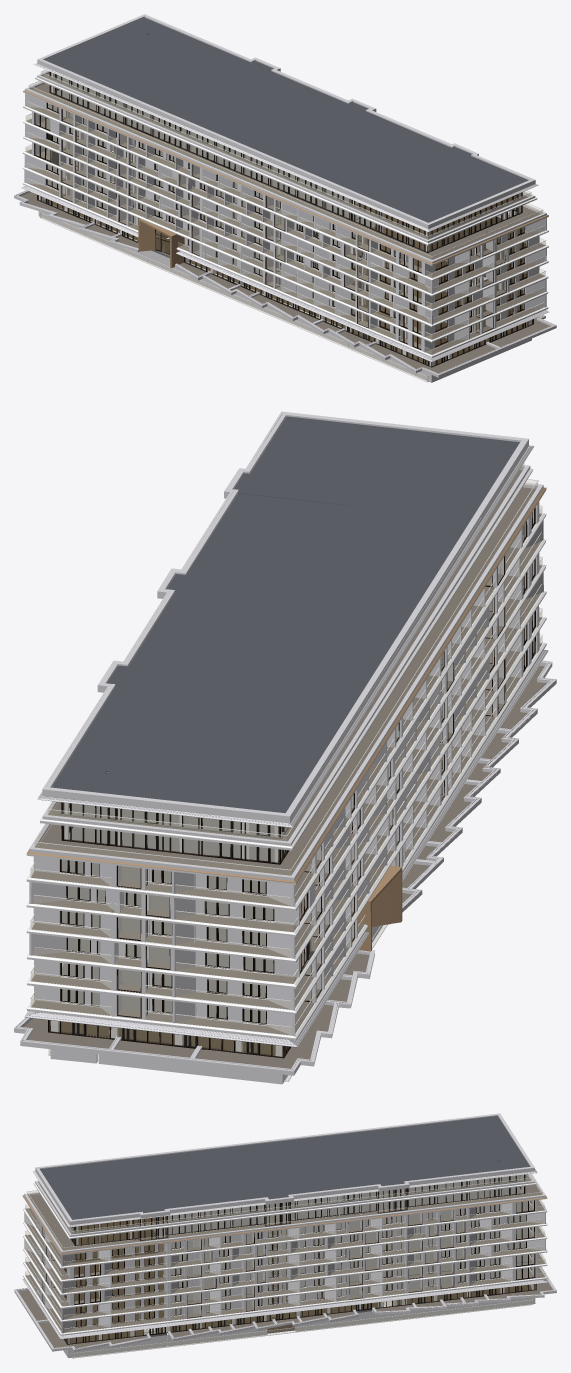
The model's file is prime_resd_Import3DFiles.glb.
3 renders of one model, top to bottom at view 1: azimuth 30°, elevation 25°; view 2: azimuth 150°, elevation 25°; view 3: azimuth 270°, elevation 25°, orthographic. The views are drawn at different scales.
Parts seen in each view (by area): view 1: mesh_material_from_multipatch_14, mesh_material_from_multipatch_18, mesh_material_from_multipatch_5, mesh_material_from_multipatch_3, mesh_material_from_multipatch_12, mesh_material_from_multipatch_15, mesh_material_from_multipatch_22, mesh_material_from_multipatch_2, mesh_material_from_multipatch_19, mesh_material_from_multipatch_17, mesh_material_from_multipatch_16, mesh_material_from_multipatch_1; view 2: mesh_material_from_multipatch_18, mesh_material_from_multipatch_14, mesh_material_from_multipatch_5, mesh_material_from_multipatch_3, mesh_material_from_multipatch_12, mesh_material_from_multipatch_22, mesh_material_from_multipatch_15, mesh_material_from_multipatch_19, mesh_material_from_multipatch_17, mesh_material_from_multipatch_2; view 3: mesh_material_from_multipatch_14, mesh_material_from_multipatch_5, mesh_material_from_multipatch_18, mesh_material_from_multipatch_3, mesh_material_from_multipatch_12, mesh_material_from_multipatch_22, mesh_material_from_multipatch_15, mesh_material_from_multipatch_2, mesh_material_from_multipatch_19, mesh_material_from_multipatch_16, mesh_material_from_multipatch_1.
Part boxes in pixels (bbox=[...]): mesh_material_from_multipatch_14: bbox=[14, 14, 556, 382]; mesh_material_from_multipatch_18: bbox=[44, 17, 528, 222]; mesh_material_from_multipatch_5: bbox=[25, 70, 545, 381]; mesh_material_from_multipatch_3: bbox=[20, 74, 549, 373]; mesh_material_from_multipatch_12: bbox=[22, 70, 548, 382]; mesh_material_from_multipatch_15: bbox=[34, 72, 533, 367]; mesh_material_from_multipatch_22: bbox=[42, 75, 524, 327]; mesh_material_from_multipatch_2: bbox=[43, 196, 528, 364]; mesh_material_from_multipatch_19: bbox=[23, 90, 548, 264]; mesh_material_from_multipatch_17: bbox=[138, 218, 184, 268]; mesh_material_from_multipatch_16: bbox=[57, 86, 518, 246]; mesh_material_from_multipatch_1: bbox=[46, 199, 506, 365]; mesh_material_from_multipatch_18: bbox=[52, 416, 519, 813]; mesh_material_from_multipatch_14: bbox=[14, 411, 556, 1084]; mesh_material_from_multipatch_5: bbox=[30, 463, 542, 1080]; mesh_material_from_multipatch_3: bbox=[24, 470, 546, 1068]; mesh_material_from_multipatch_12: bbox=[26, 468, 546, 1081]; mesh_material_from_multipatch_22: bbox=[46, 803, 288, 1054]; mesh_material_from_multipatch_15: bbox=[48, 507, 535, 1058]; mesh_material_from_multipatch_19: bbox=[26, 487, 546, 883]; mesh_material_from_multipatch_17: bbox=[358, 865, 402, 951]; mesh_material_from_multipatch_2: bbox=[59, 1021, 275, 1055]; mesh_material_from_multipatch_14: bbox=[14, 1113, 556, 1357]; mesh_material_from_multipatch_5: bbox=[25, 1174, 545, 1357]; mesh_material_from_multipatch_18: bbox=[40, 1116, 530, 1219]; mesh_material_from_multipatch_3: bbox=[18, 1174, 552, 1348]; mesh_material_from_multipatch_12: bbox=[23, 1173, 547, 1358]; mesh_material_from_multipatch_22: bbox=[71, 1175, 531, 1336]; mesh_material_from_multipatch_15: bbox=[42, 1174, 536, 1344]; mesh_material_from_multipatch_2: bbox=[64, 1216, 531, 1343]; mesh_material_from_multipatch_19: bbox=[23, 1195, 546, 1254]; mesh_material_from_multipatch_16: bbox=[72, 1176, 516, 1242]; mesh_material_from_multipatch_1: bbox=[83, 1285, 521, 1342].
Bounding box in the file's own units: 71.81 × 39.14 × 138.
